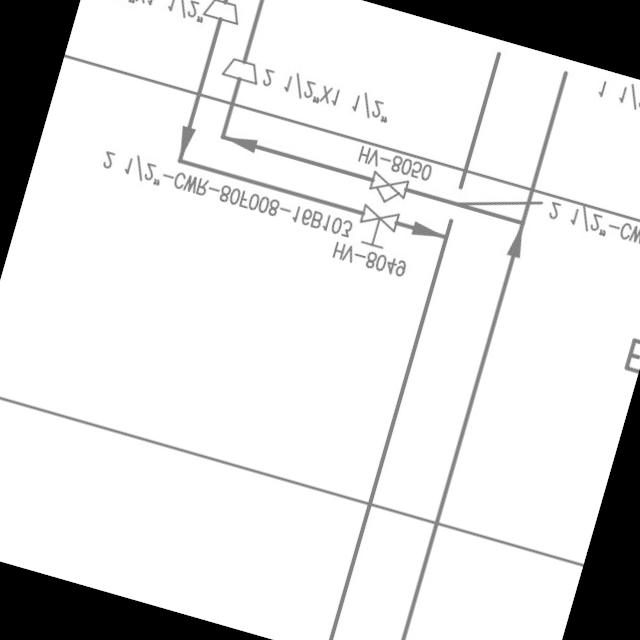HV: (348, 202, 404, 256)
SP: (217, 52, 264, 88), (196, 0, 244, 28)
